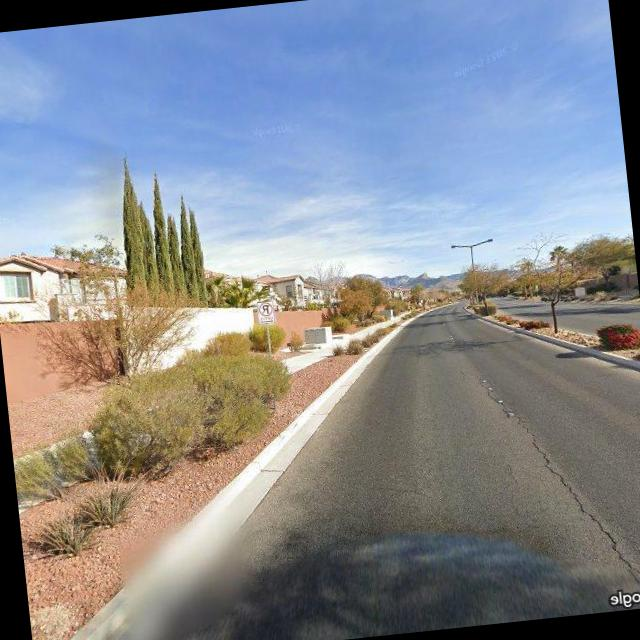crack: (483, 365, 640, 595)
